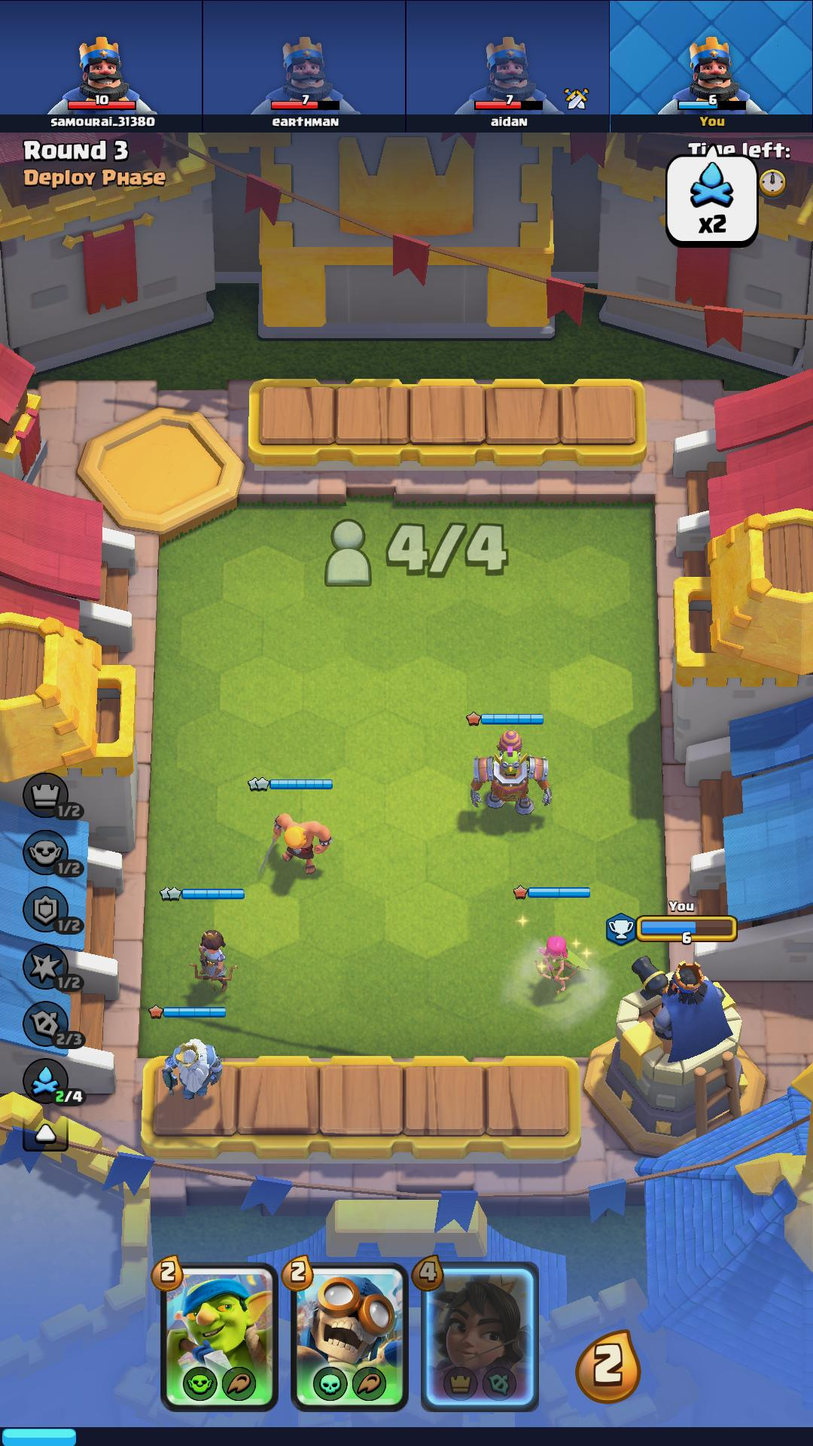archer: (535, 928, 590, 998)
barbarian: (267, 805, 333, 882)
ghost: (153, 1027, 224, 1102)
hand-bomber: (290, 1263, 409, 1411)
hand-princess: (421, 1262, 537, 1408)
hand-spear: (160, 1262, 280, 1411)
machine: (467, 725, 553, 824)
princess: (181, 920, 237, 996)
